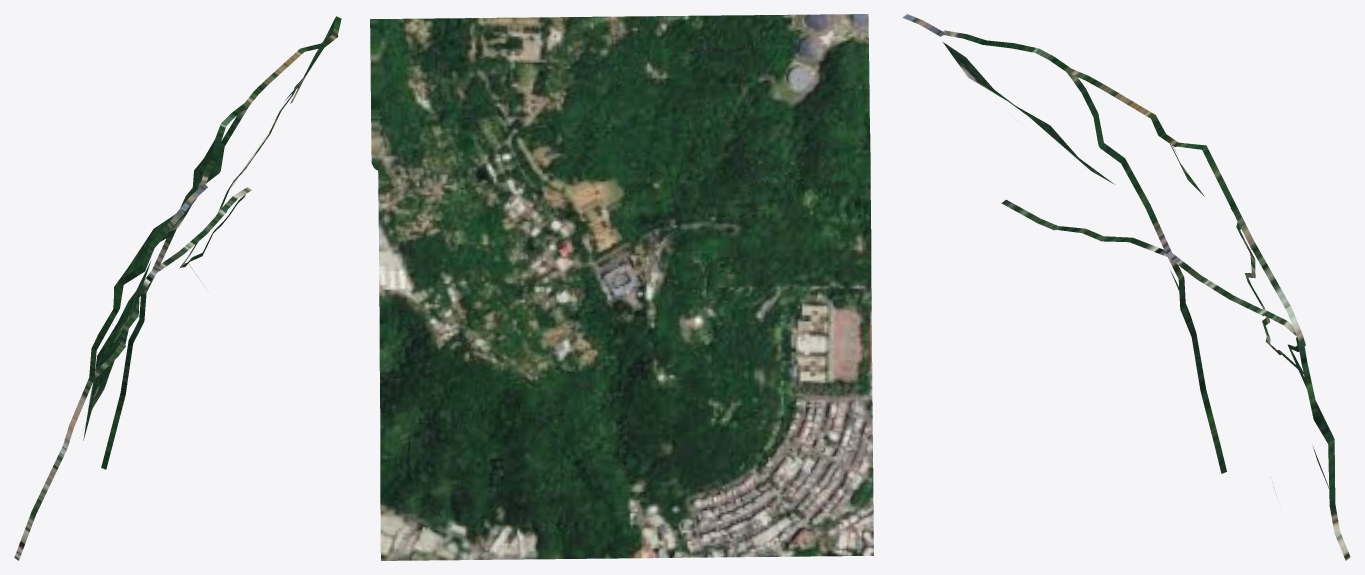
3 views of the same model, side by side, from view 1: azimuth 30°, elevation 25°; view 2: azimuth 150°, elevation 25°; view 3: azimuth 270°, elevation 25° (orthographic). The views are drawn at different scales.
Bounding box in the file's own units: 1142 × 1187 × 1049.
1 material, 1 textured.
